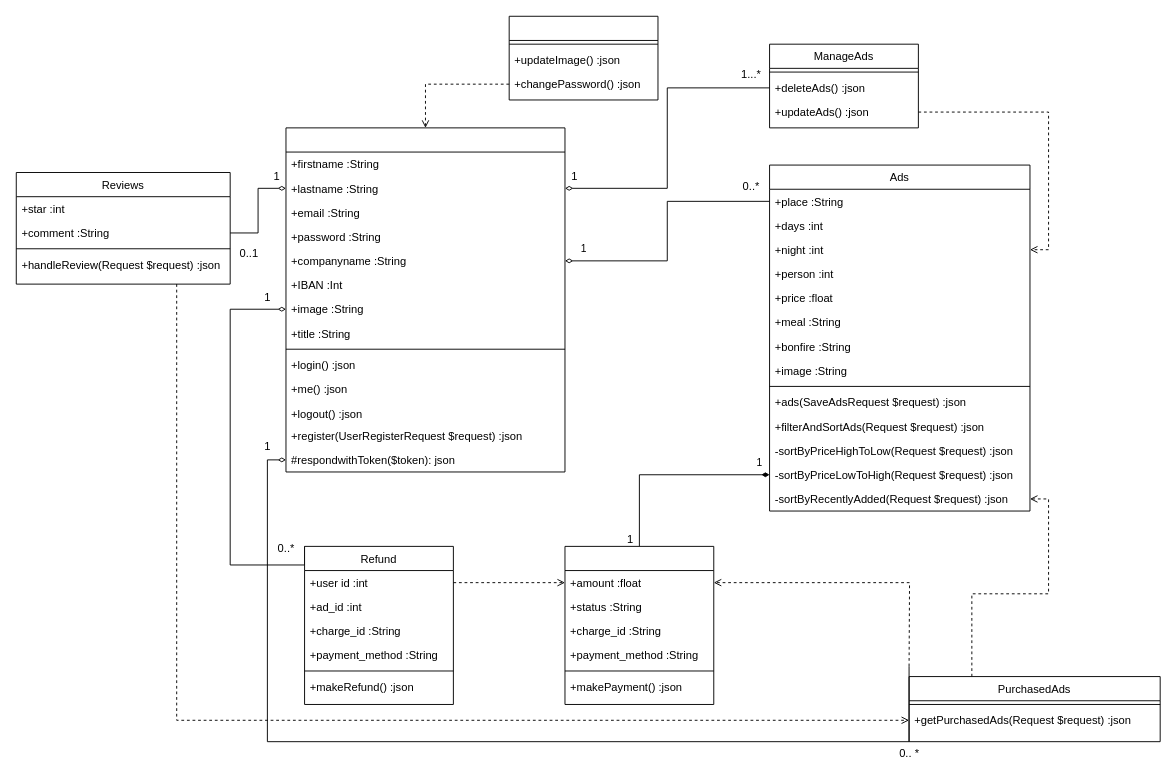
Some shapes in this 1176 by 784 pixel diagram are drawn without their labels. The box of each missing label's shape, as (x1, y1, x2, y2) in pixels:
ManageUserInfo: (508, 15, 658, 100)
Transactions: (564, 545, 714, 704)
Users: (285, 127, 565, 472)
